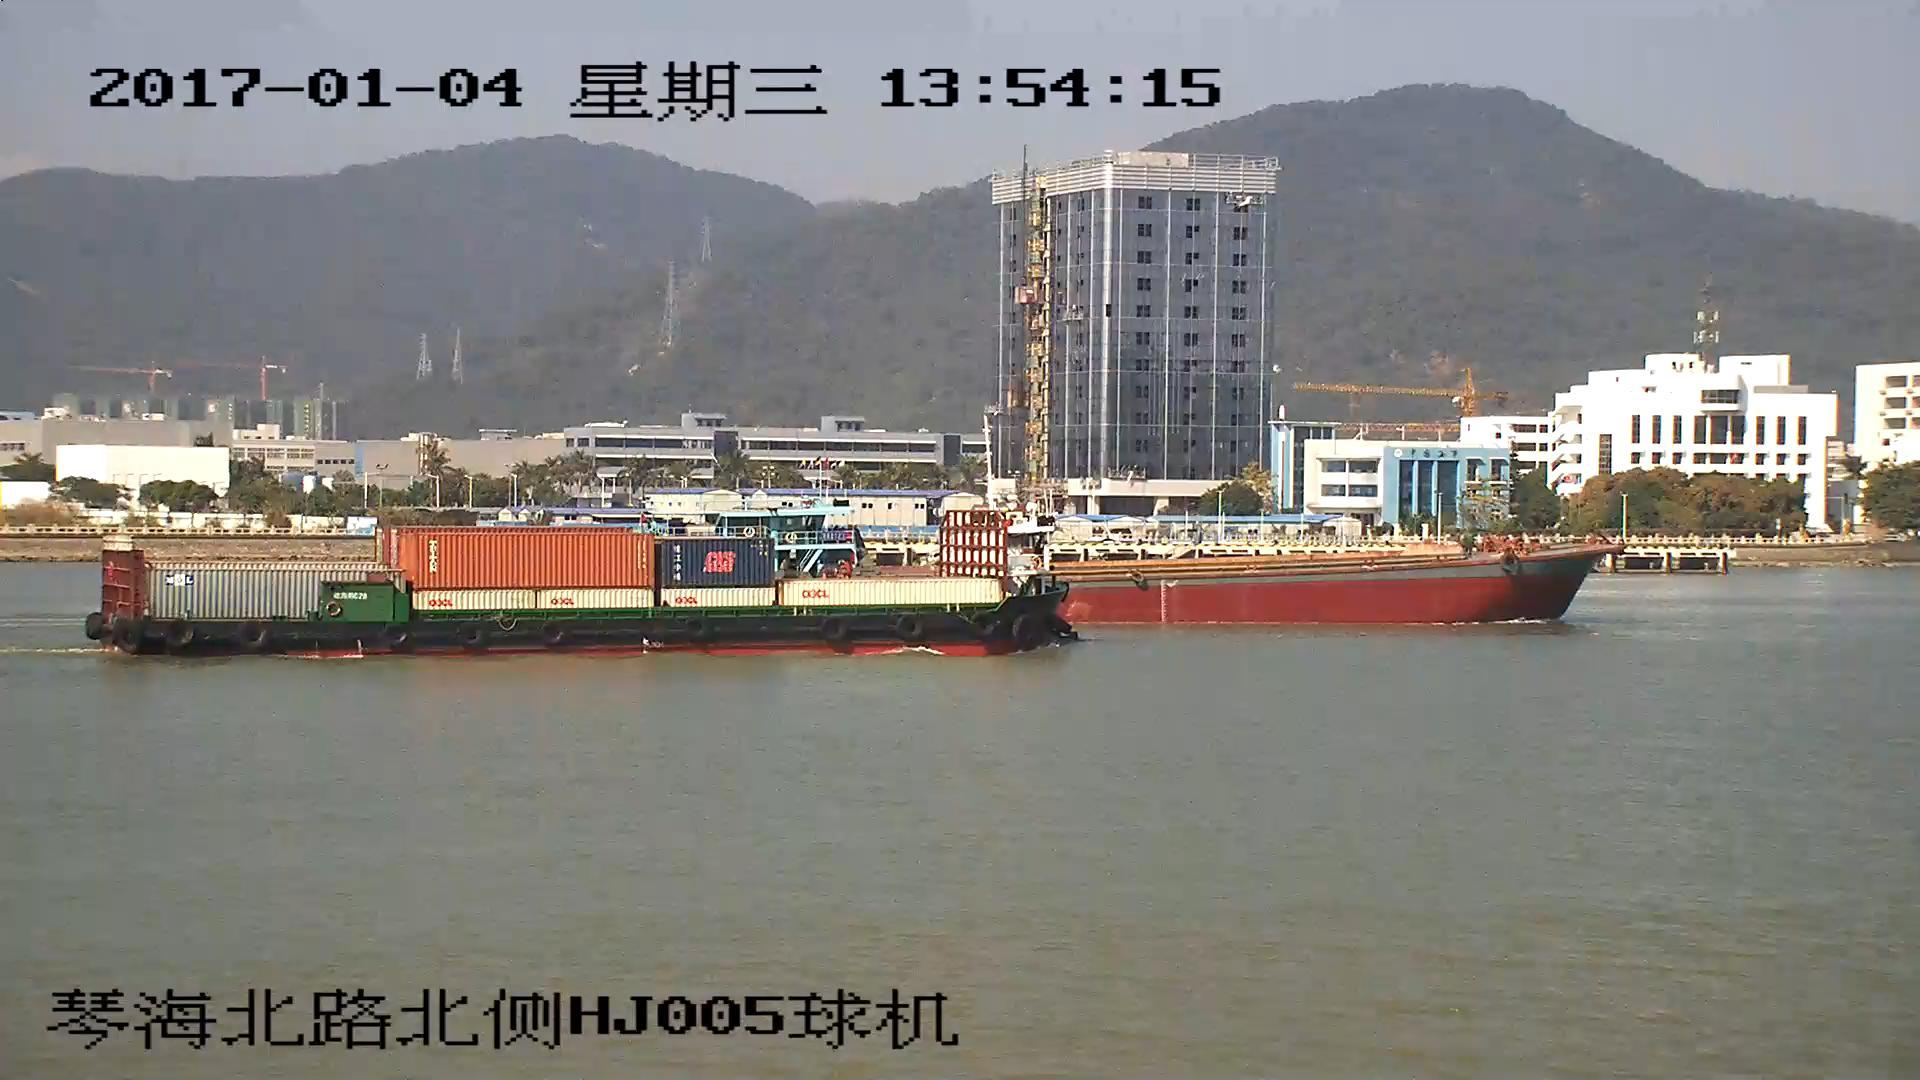Ship: (88, 509, 1077, 658), (1077, 539, 1625, 625)
